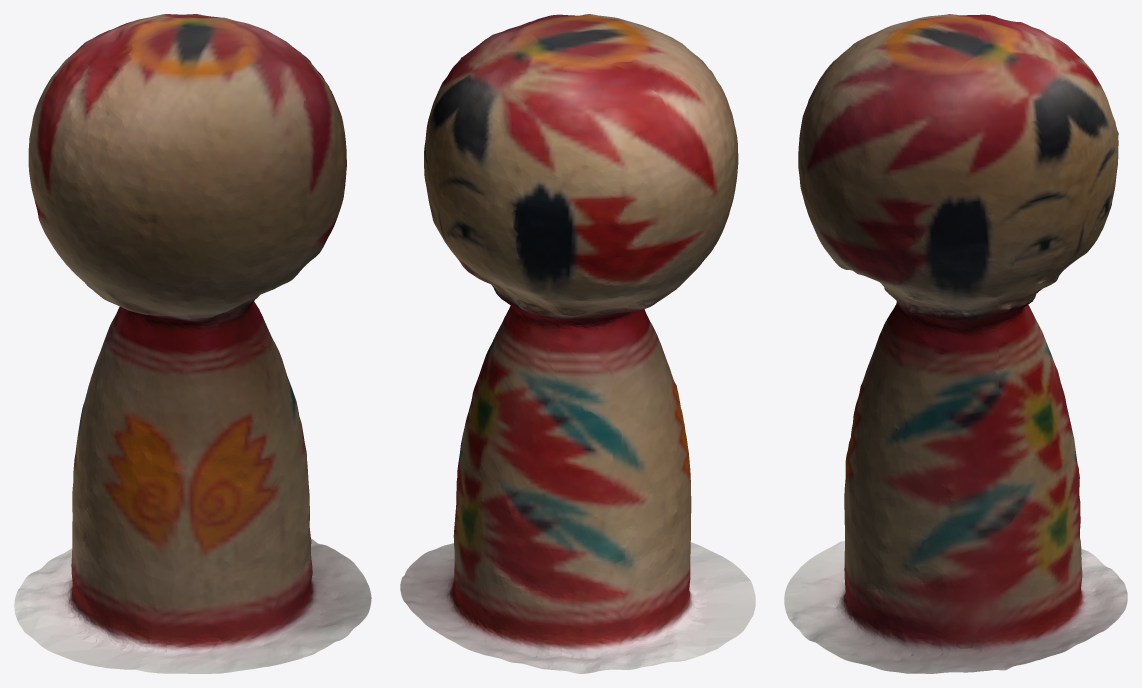
Rendered from kokeshiS003.glb.
The picture shows the model from 3 angles, left to right: view 1: azimuth 30°, elevation 25°; view 2: azimuth 150°, elevation 25°; view 3: azimuth 270°, elevation 25°; orthographic projection.
Parts seen in each view (by area): view 1: mesh; view 2: mesh; view 3: mesh.
Part boxes in pixels (<box>): mesh: <box>14,14,371,673</box>; mesh: <box>400,14,755,673</box>; mesh: <box>784,14,1127,673</box>.
Size of the model in its own units: 0.0676 by 0.1173 by 0.0645.
Materials: 1 (1 with a texture image).
